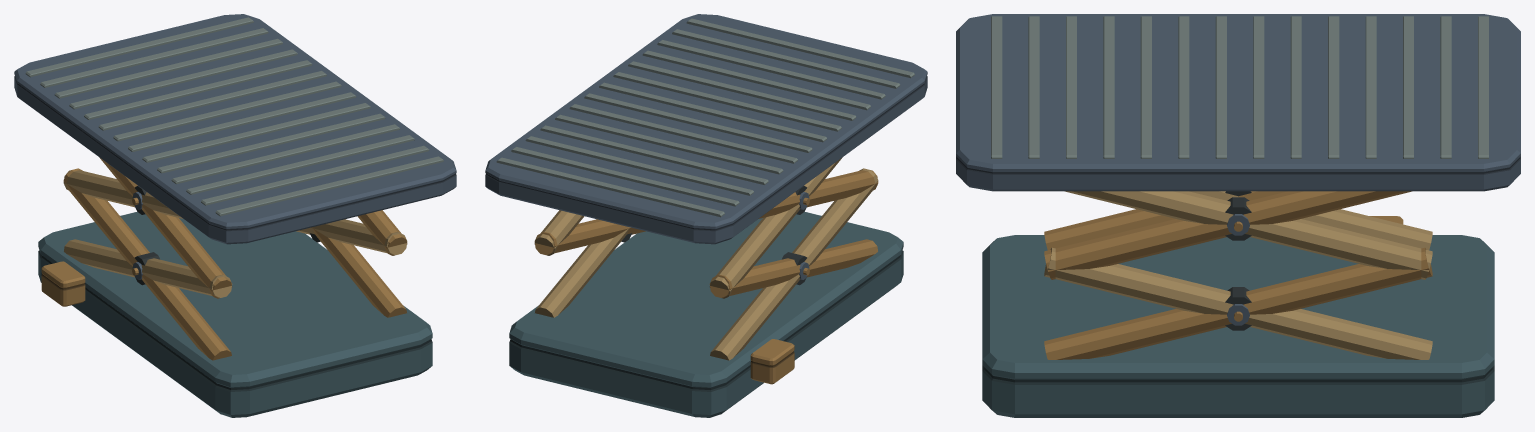
File: HM-04_scissor_table.glb
The picture shows the model from 3 angles, left to right: view 1: azimuth 30°, elevation 25°; view 2: azimuth 150°, elevation 25°; view 3: azimuth 270°, elevation 25°; orthographic projection. The views are drawn at different scales.
Visible parts, largest first — view 1: HM-04_scissor_table; view 2: HM-04_scissor_table; view 3: HM-04_scissor_table.
Part boxes in pixels (box(x1,y1,x2,y2)): HM-04_scissor_table: box(14, 14, 456, 417); HM-04_scissor_table: box(485, 14, 927, 417); HM-04_scissor_table: box(956, 14, 1520, 417).
Size of the model in its own units: 1.86 by 1.46 by 2.79.
